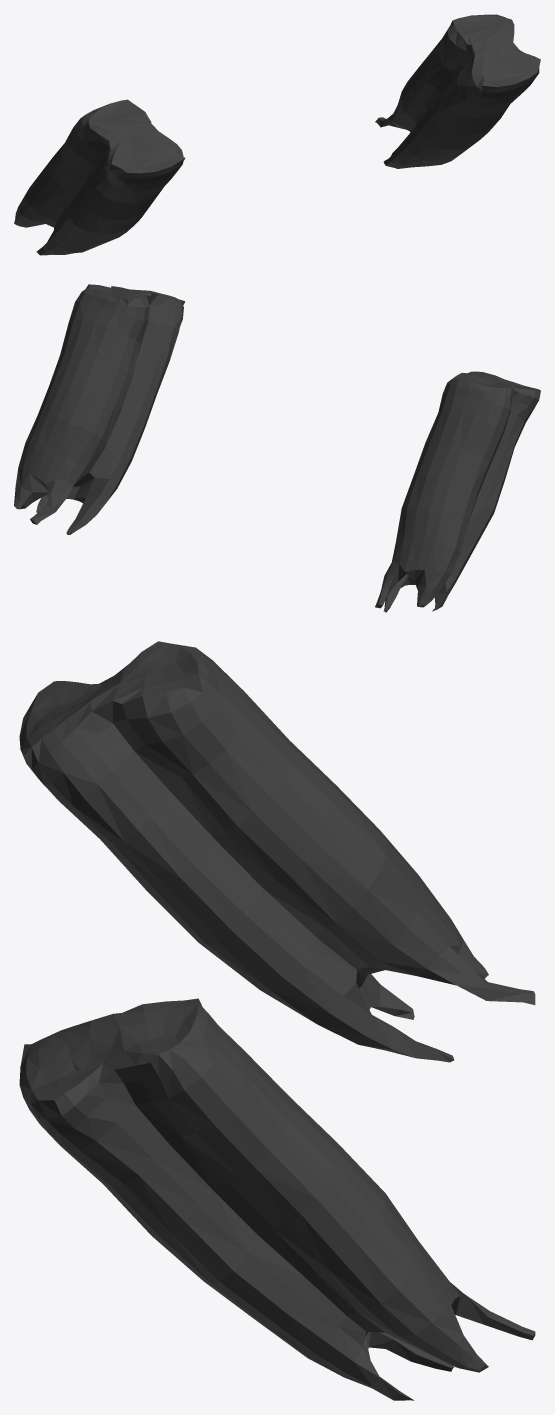
Rendered from L_mand_M2_LO.glb.
3 views of the same model, one above another, from view 1: azimuth 30°, elevation 25°; view 2: azimuth 150°, elevation 25°; view 3: azimuth 270°, elevation 25° (orthographic). The views are drawn at different scales.
Visible parts, largest first — view 1: L_mand_M2_LO; view 2: L_mand_M2_LO; view 3: L_mand_M2_LO.
Part boxes in pixels (bbox=[...]): L_mand_M2_LO: bbox=[14, 14, 540, 255]; L_mand_M2_LO: bbox=[14, 284, 540, 612]; L_mand_M2_LO: bbox=[19, 641, 535, 1400].
Size of the model in its own units: 0.00116 by 0.000484 by 0.0006.
Materials: 1 (1 with a texture image).
